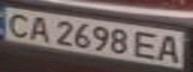2: (51, 17, 75, 47)
6: (69, 20, 93, 51)
8: (109, 26, 133, 56)
9: (90, 24, 112, 53)
A: (154, 33, 187, 64), (24, 14, 54, 43)
C: (0, 10, 33, 38)
E: (130, 29, 163, 61)
